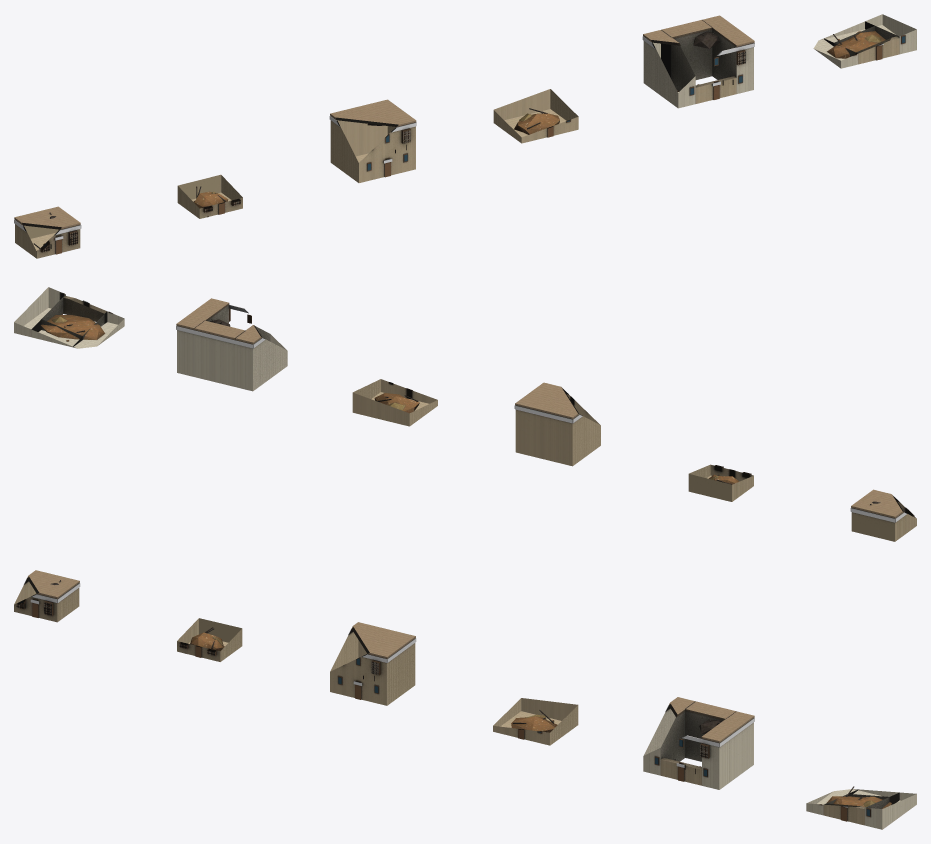
Rendered from kingdoms-nile-houses-damage.glb.
The picture shows the model from 3 angles, top to bottom: view 1: azimuth 30°, elevation 25°; view 2: azimuth 150°, elevation 25°; view 3: azimuth 330°, elevation 25°; orthographic projection.
Visible parts, largest first — view 1: LOD0.004, LOD0.002, LOD0.005, LOD0.003, LOD0, LOD0.001; view 2: LOD0.004, LOD0.002, LOD0.005, LOD0.003, LOD0, LOD0.001; view 3: LOD0.004, LOD0.002, LOD0.005, LOD0.003, LOD0, LOD0.001.
Part boxes in pixels (bbox=[...]): LOD0.004: bbox=[642, 15, 754, 108]; LOD0.002: bbox=[329, 99, 416, 182]; LOD0.005: bbox=[813, 14, 916, 68]; LOD0.003: bbox=[493, 89, 578, 143]; LOD0: bbox=[14, 206, 81, 258]; LOD0.001: bbox=[177, 174, 242, 218]; LOD0.004: bbox=[176, 298, 287, 391]; LOD0.002: bbox=[514, 382, 600, 466]; LOD0.005: bbox=[14, 287, 124, 348]; LOD0.003: bbox=[352, 379, 437, 426]; LOD0: bbox=[850, 489, 916, 541]; LOD0.001: bbox=[688, 464, 753, 501]; LOD0.004: bbox=[643, 697, 754, 789]; LOD0.002: bbox=[330, 622, 416, 705]; LOD0.005: bbox=[806, 786, 916, 829]; LOD0.003: bbox=[493, 698, 578, 745]; LOD0: bbox=[14, 570, 80, 622]; LOD0.001: bbox=[177, 618, 242, 661].
Size of what is drawn, in the model's own units: 16.11 by 0.8672 by 1.17.
Materials: 2 (2 with a texture image).
